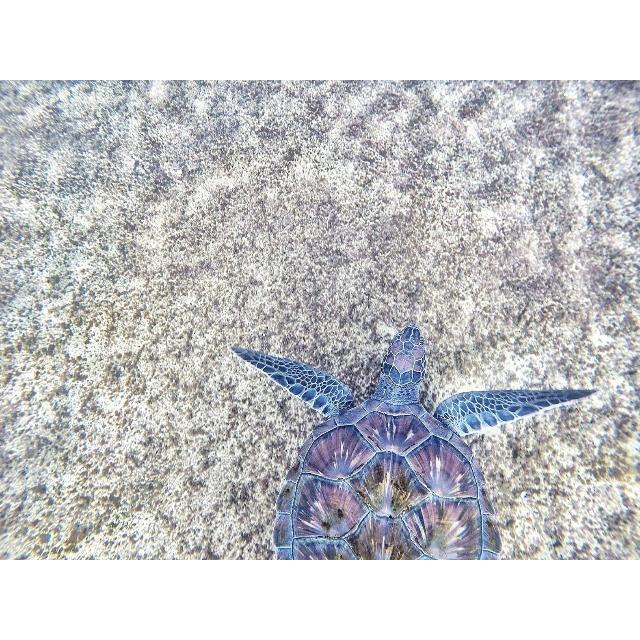turtle: (231, 325, 595, 558)
